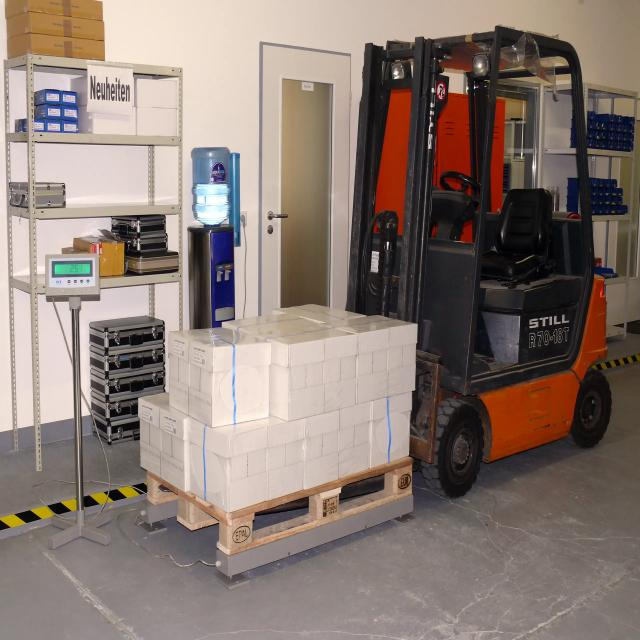Chariot elevateur: (348, 3, 632, 499)
Palette: (139, 460, 416, 566)
